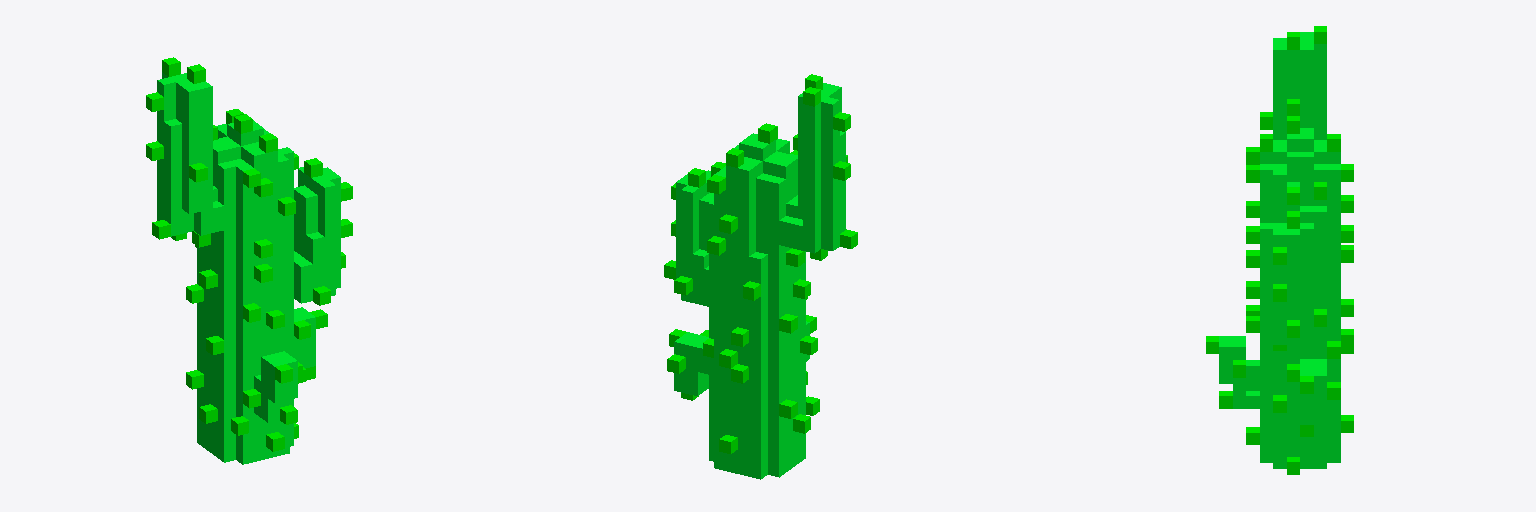
3 renders of one model, left to right at view 1: azimuth 30°, elevation 25°; view 2: azimuth 150°, elevation 25°; view 3: azimuth 270°, elevation 25°, orthographic.
Visible parts, largest first — view 1: cactus; view 2: cactus; view 3: cactus.
Part boxes in pixels (left/top/right/bottom): cactus: left=146, top=57, right=352, bottom=464; cactus: left=664, top=74, right=857, bottom=479; cactus: left=1206, top=26, right=1353, bottom=474.
Bounding box in the file's own units: 16 × 32 × 11.
1 materials, 1 textured.